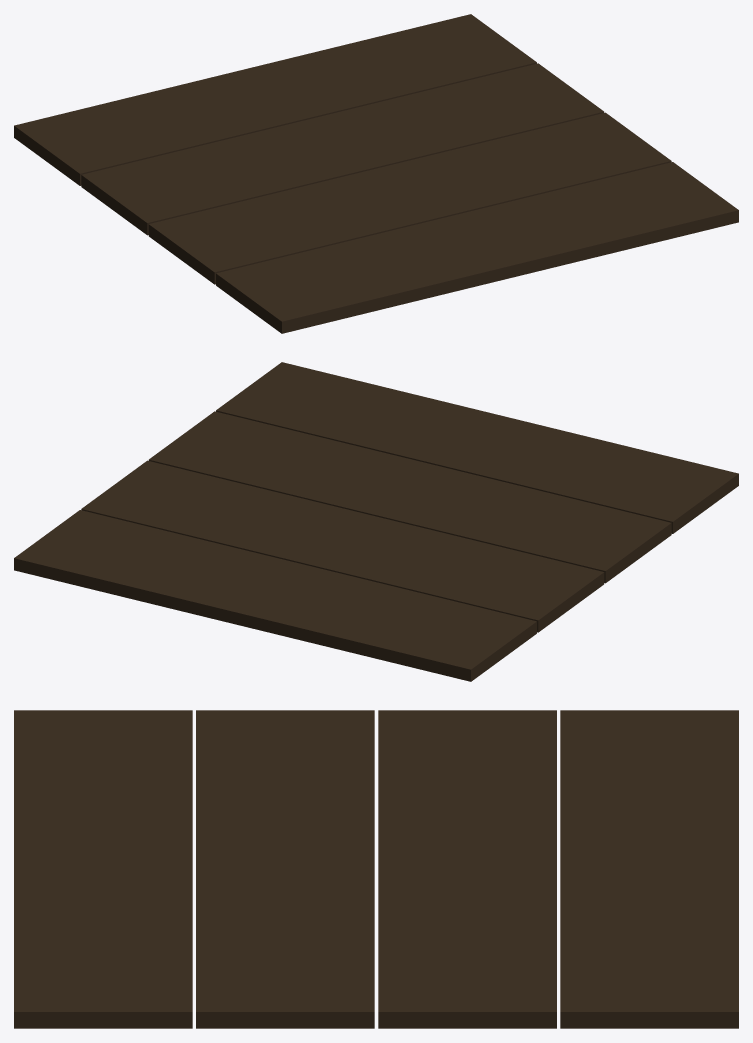
Rendered from raum_fliese_a.glb.
The picture shows the model from 3 angles, top to bottom: view 1: azimuth 30°, elevation 25°; view 2: azimuth 150°, elevation 25°; view 3: azimuth 270°, elevation 25°; orthographic projection. The views are drawn at different scales.
Visible parts, largest first — view 1: boden; view 2: boden; view 3: boden.
Part boxes in pixels (<box>): boden: <box>14,14,738,333</box>; boden: <box>14,362,738,681</box>; boden: <box>14,710,738,1028</box>.
Size of the model in its own units: 0.98 by 0.025 by 0.995.
